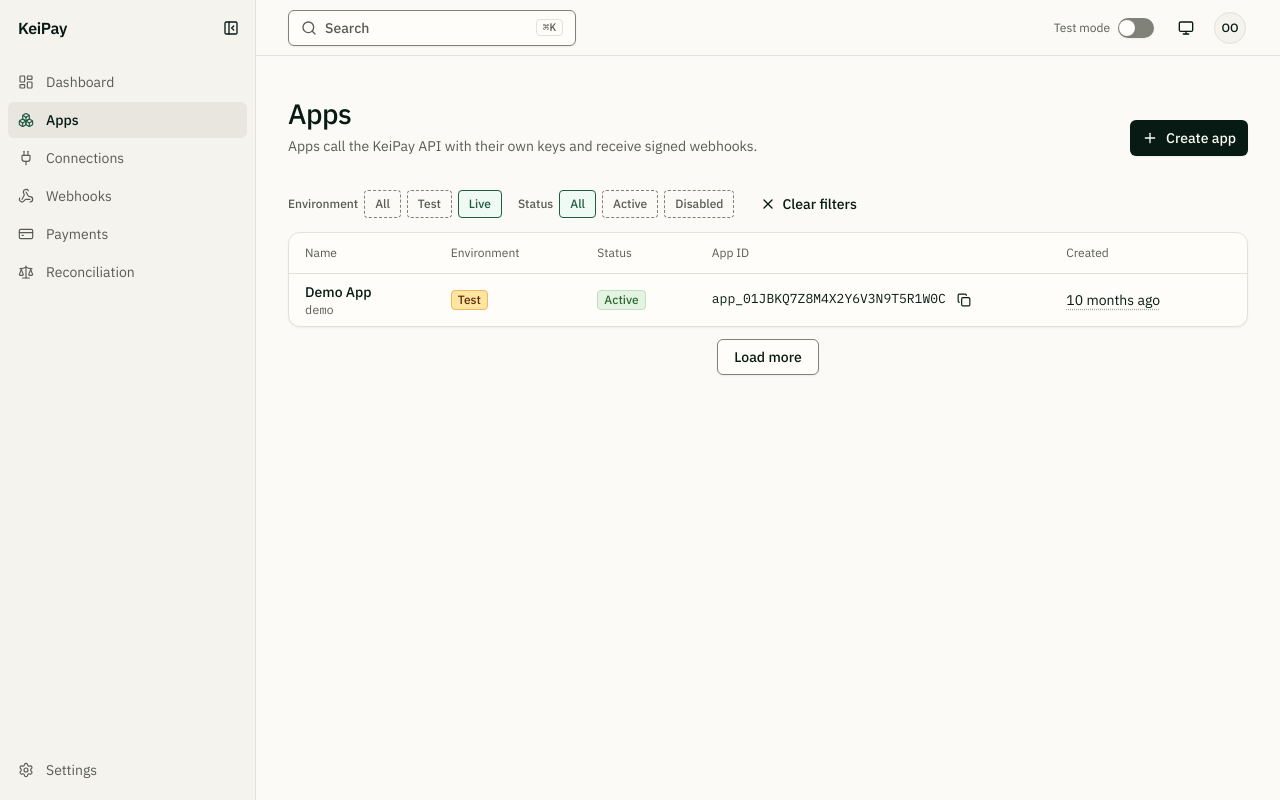
Scenario: Apps page › loads the next page with Load more
This screenshot has width=1280, height=800.
Click the 1st button "All". click: click(382, 204)
box: [364, 190, 401, 218]
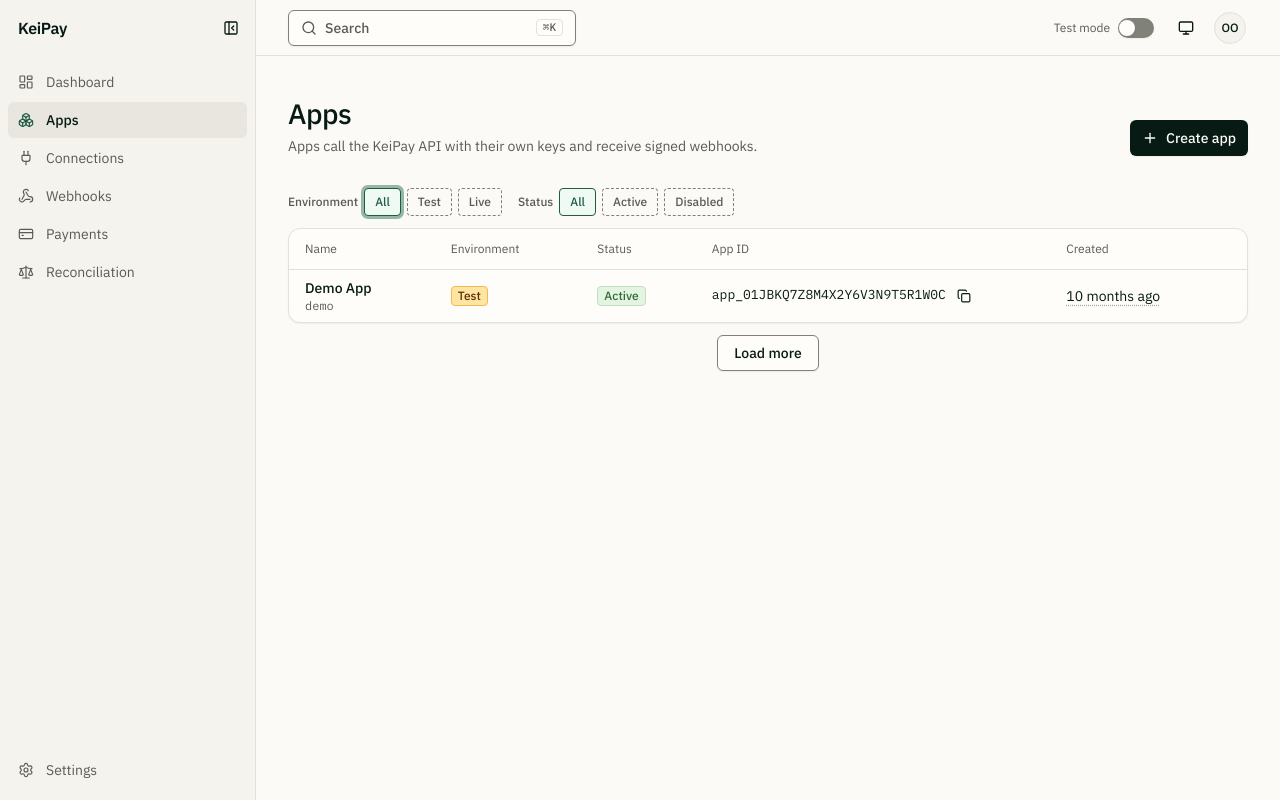
expect the link "Demo App" is shown: met, box [305, 278, 372, 296]
Click the button "Load more". click: click(768, 352)
box: [717, 334, 819, 370]
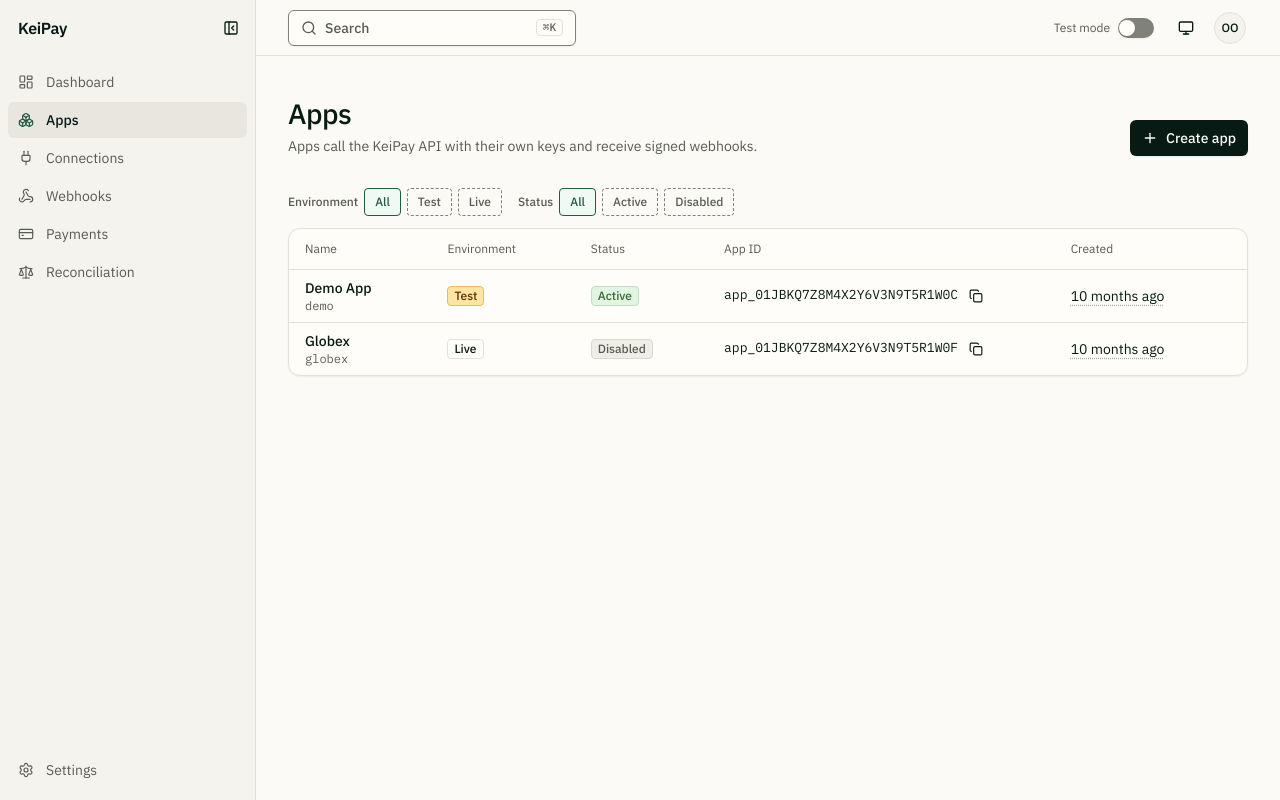
expect the link "Demo App" is shown: met, box [305, 278, 372, 296]
expect the link "Globex" is shown: met, box [305, 332, 350, 350]
expect the button "Load more" is gone: met
